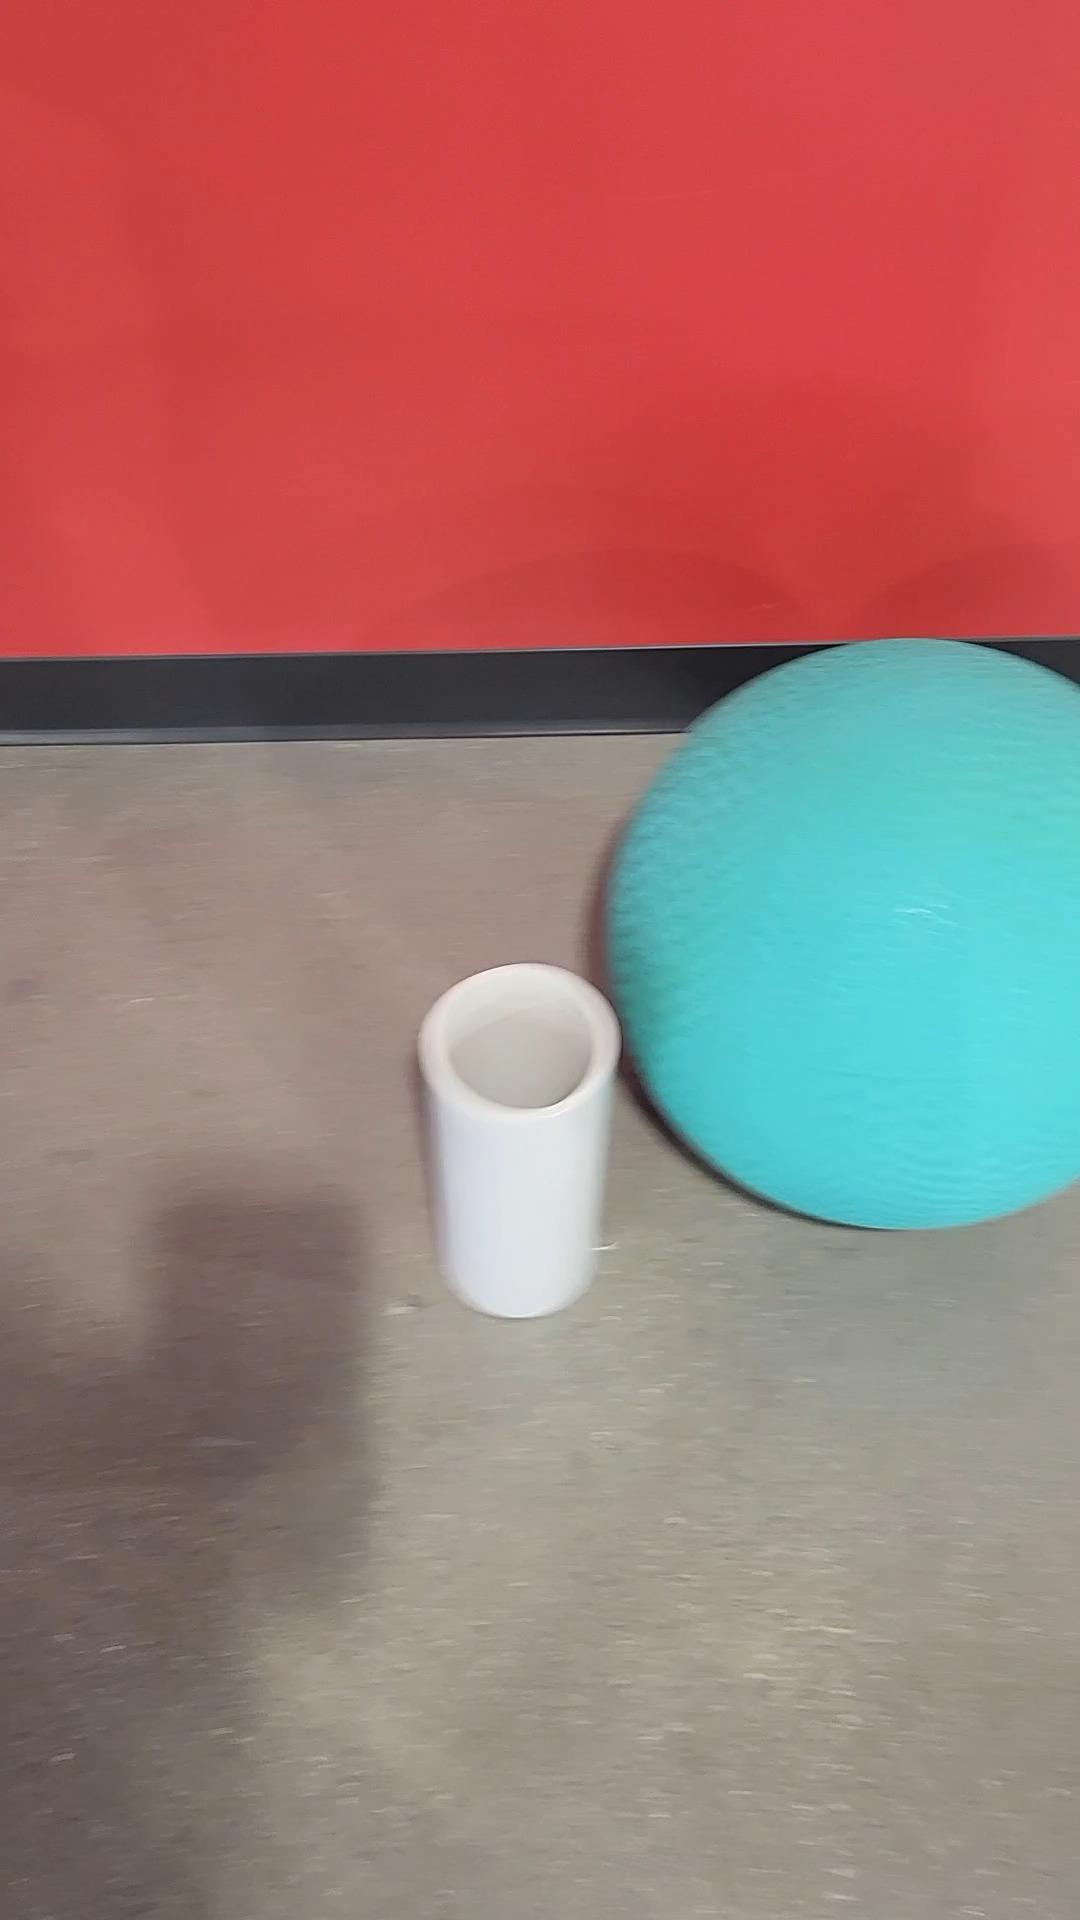algae: (600, 634, 1079, 1233)
coral: (419, 961, 621, 1320)
